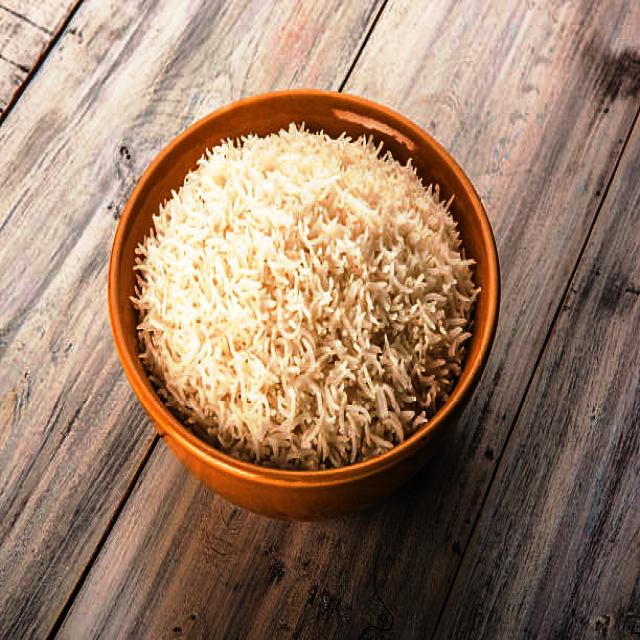rice: (126, 118, 483, 470)
